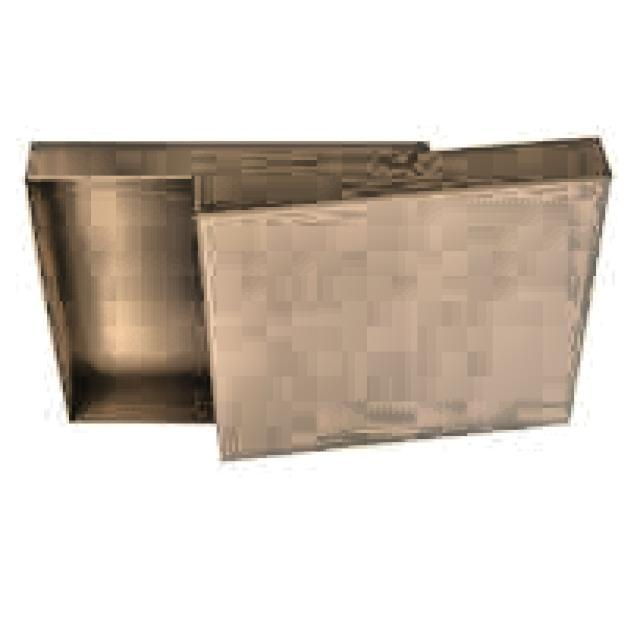cardboard: (191, 138, 612, 468), (22, 141, 430, 430)
